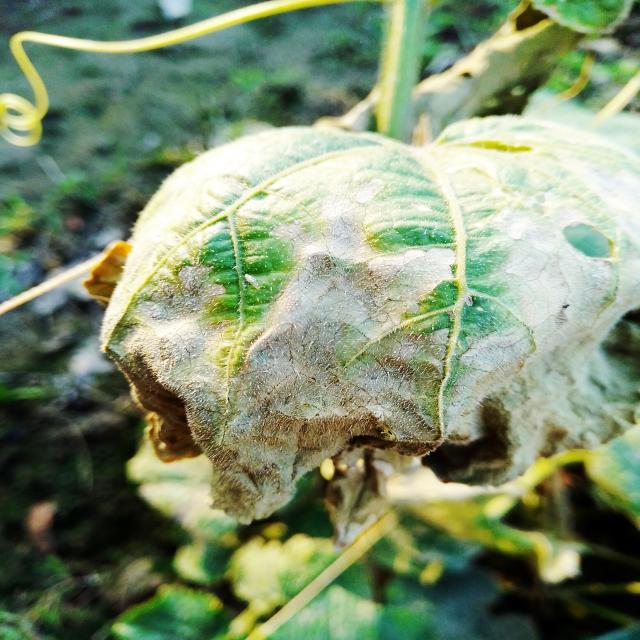Gummy-Stem-Blight: (99, 149, 640, 526)
